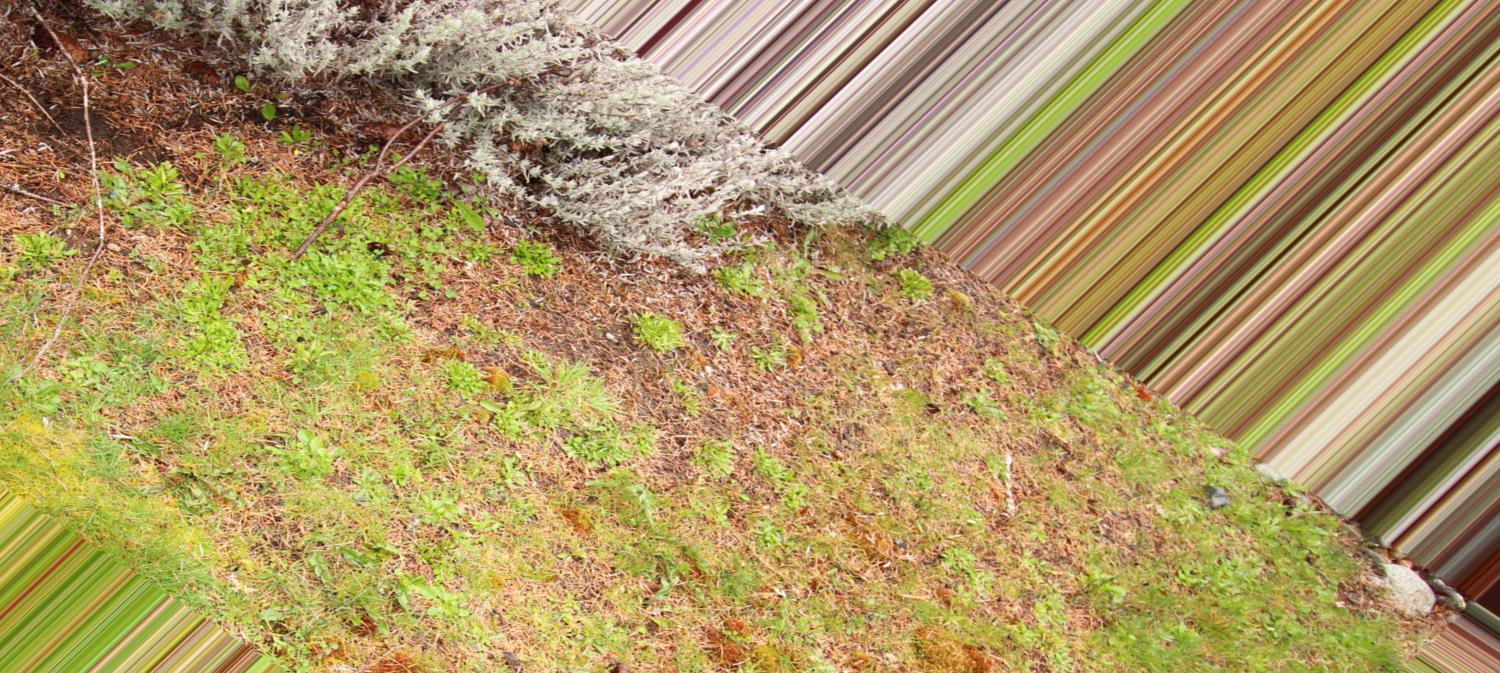patch: (227, 151, 448, 256), (387, 340, 549, 447), (572, 295, 703, 406), (749, 290, 873, 406), (106, 224, 230, 334), (903, 282, 1002, 369), (238, 341, 310, 420), (474, 264, 512, 298)
